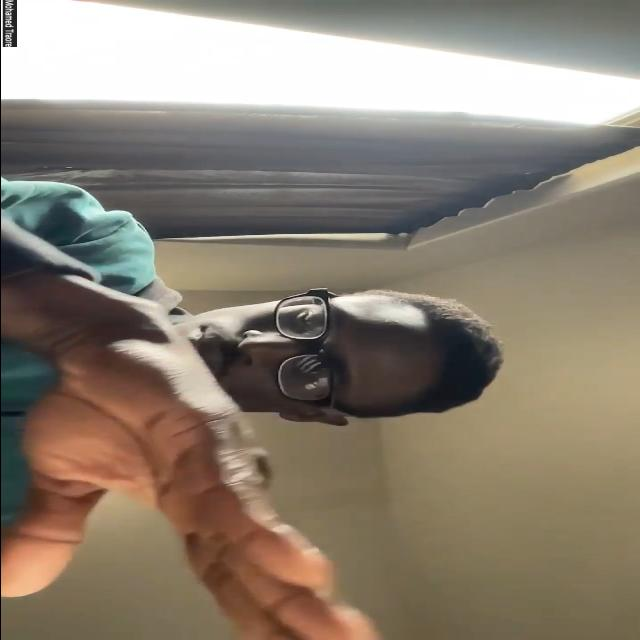Paper: (0, 327, 385, 640)
